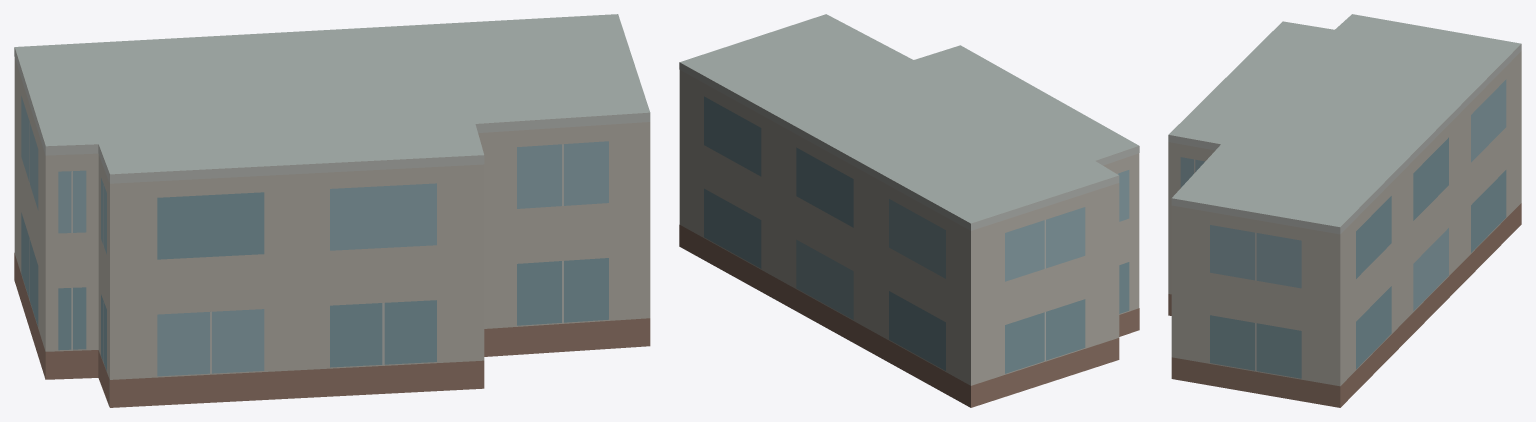
File: survey-upis-32572025.glb
The picture shows the model from 3 angles, left to right: view 1: azimuth 30°, elevation 25°; view 2: azimuth 150°, elevation 25°; view 3: azimuth 270°, elevation 25°; orthographic projection. The views are drawn at different scales.
Parts seen in each view (by area): view 1: survey-upis-32572025.tmp; view 2: survey-upis-32572025.tmp; view 3: survey-upis-32572025.tmp.
Part boxes in pixels (x1,y1,x2,y2): survey-upis-32572025.tmp: [14, 14, 650, 407]; survey-upis-32572025.tmp: [679, 14, 1139, 407]; survey-upis-32572025.tmp: [1168, 14, 1521, 407].
Bounding box in the file's own units: 15.45 × 6.1 × 10.82.
